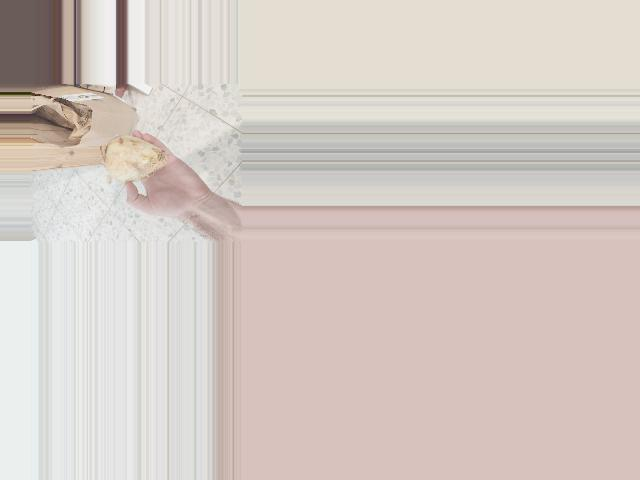onion: (96, 131, 176, 190)
